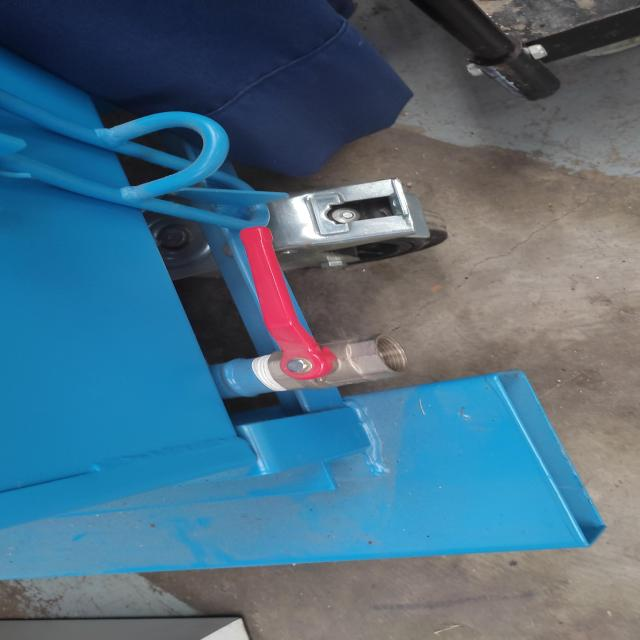closed_valve: (214, 218, 404, 386)
